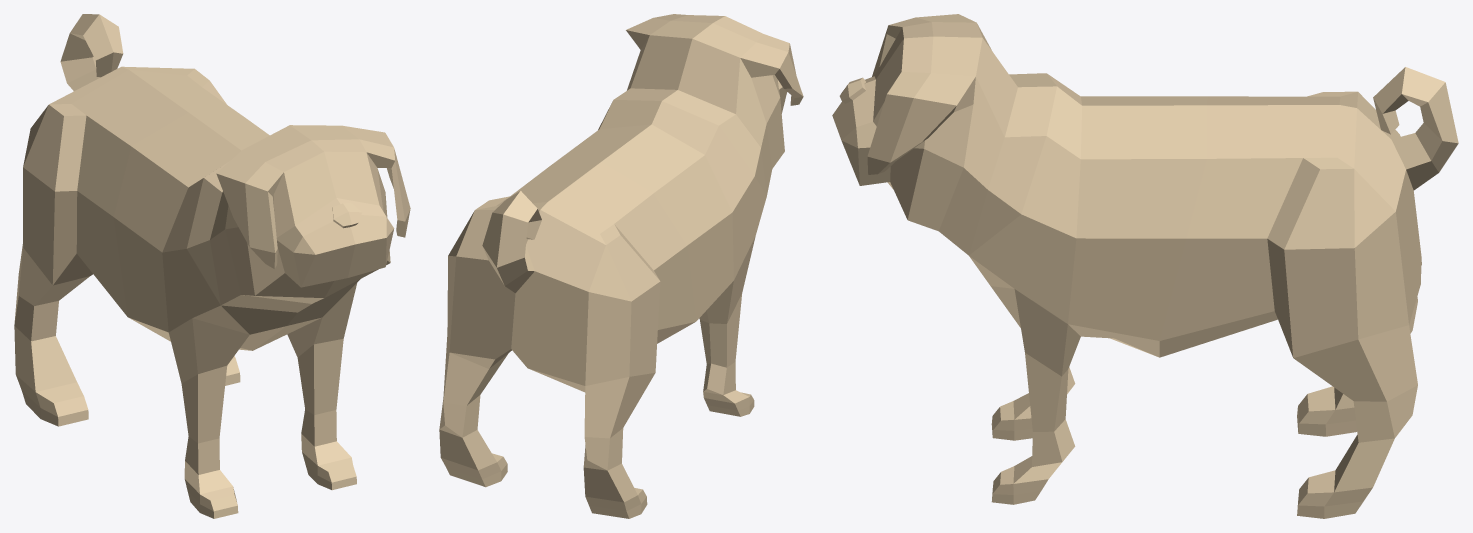
The model's file is quaternius_Pug.glb.
3 renders of one model, left to right at view 1: azimuth 30°, elevation 25°; view 2: azimuth 150°, elevation 25°; view 3: azimuth 270°, elevation 25°, orthographic. The views are drawn at different scales.
Bounding box in the file's own units: 0.0724 × 0.1326 × 0.175.
